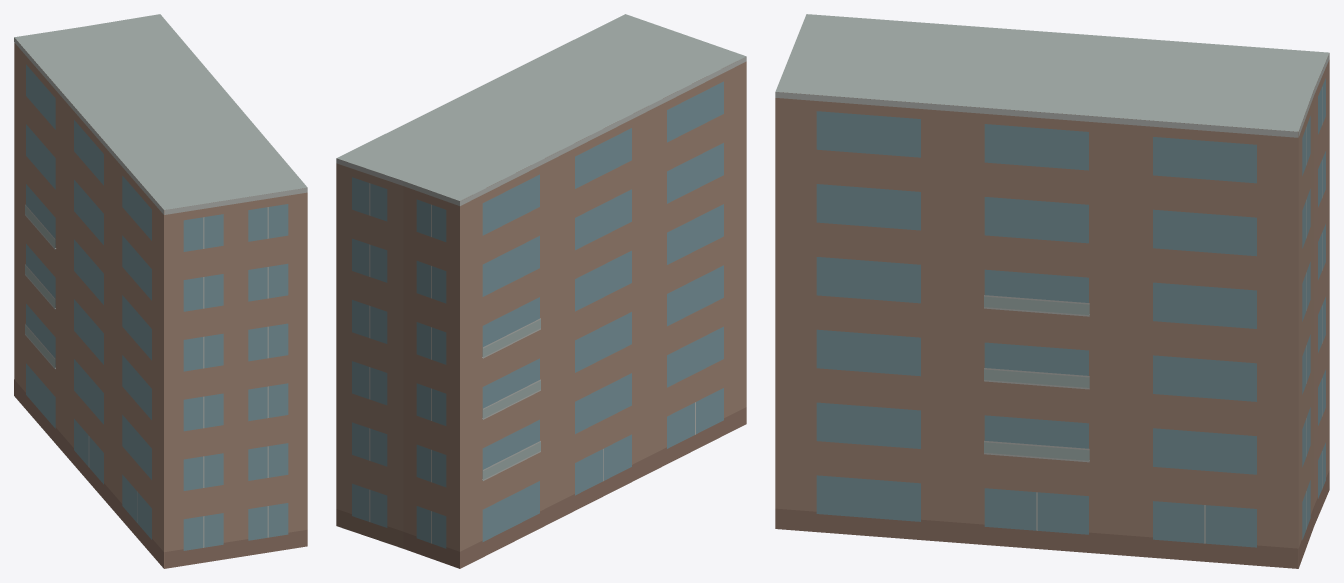
Rendered from survey-upis-32714450.glb.
3 renders of one model, left to right at view 1: azimuth 30°, elevation 25°; view 2: azimuth 150°, elevation 25°; view 3: azimuth 270°, elevation 25°, orthographic. The views are drawn at different scales.
Visible parts, largest first — view 1: survey-upis-32714450.tmp; view 2: survey-upis-32714450.tmp; view 3: survey-upis-32714450.tmp.
Part boxes in pixels (x1=…): survey-upis-32714450.tmp: x1=14, y1=14, x2=307, y2=568; survey-upis-32714450.tmp: x1=336, y1=14, x2=746, y2=568; survey-upis-32714450.tmp: x1=775, y1=14, x2=1329, y2=568.
Bounding box in the file's own units: 10.24 × 17.7 × 20.35.
